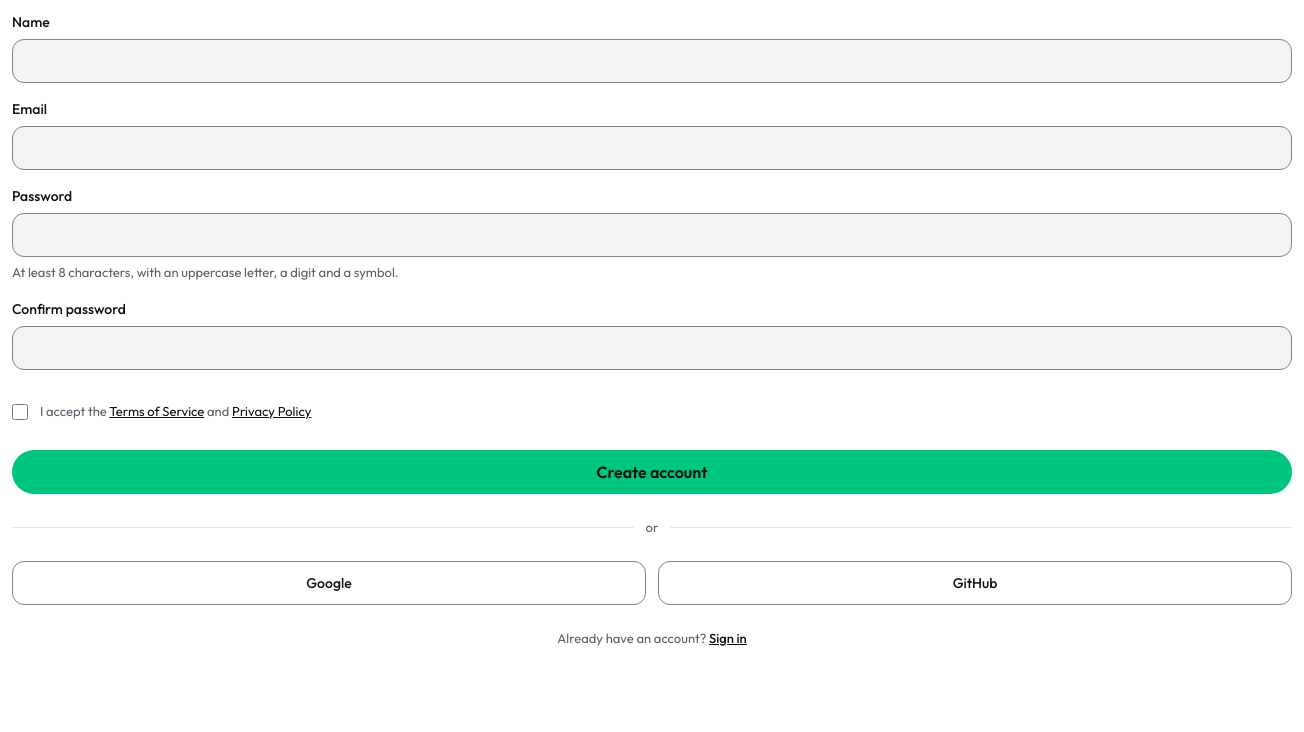
it: RegisterForm › renders success text containing "Check your inbox" after successful registration
Type "Alice Trader" into the field labelled "Name" at x=652, y=61, box [12,39,1292,83]
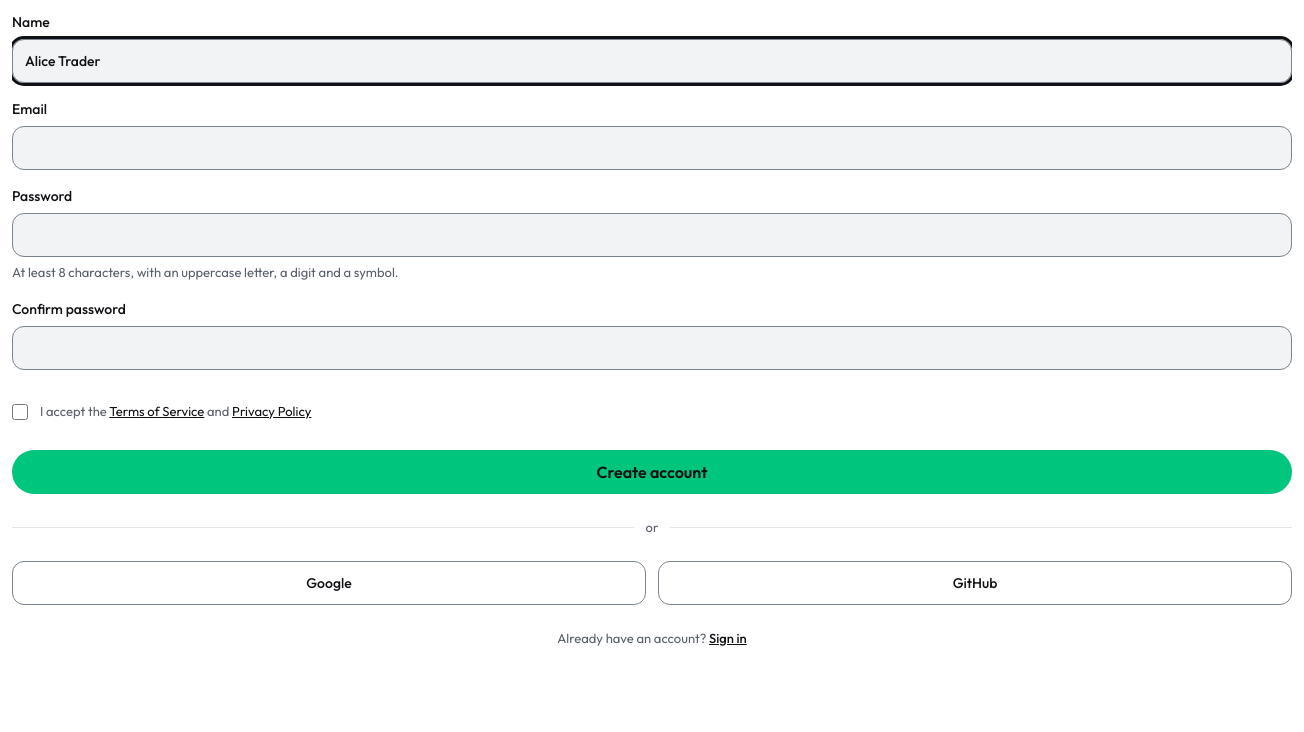
Type "alice@example.com" into the field labelled "Email" at x=652, y=148, box [12,126,1292,170]
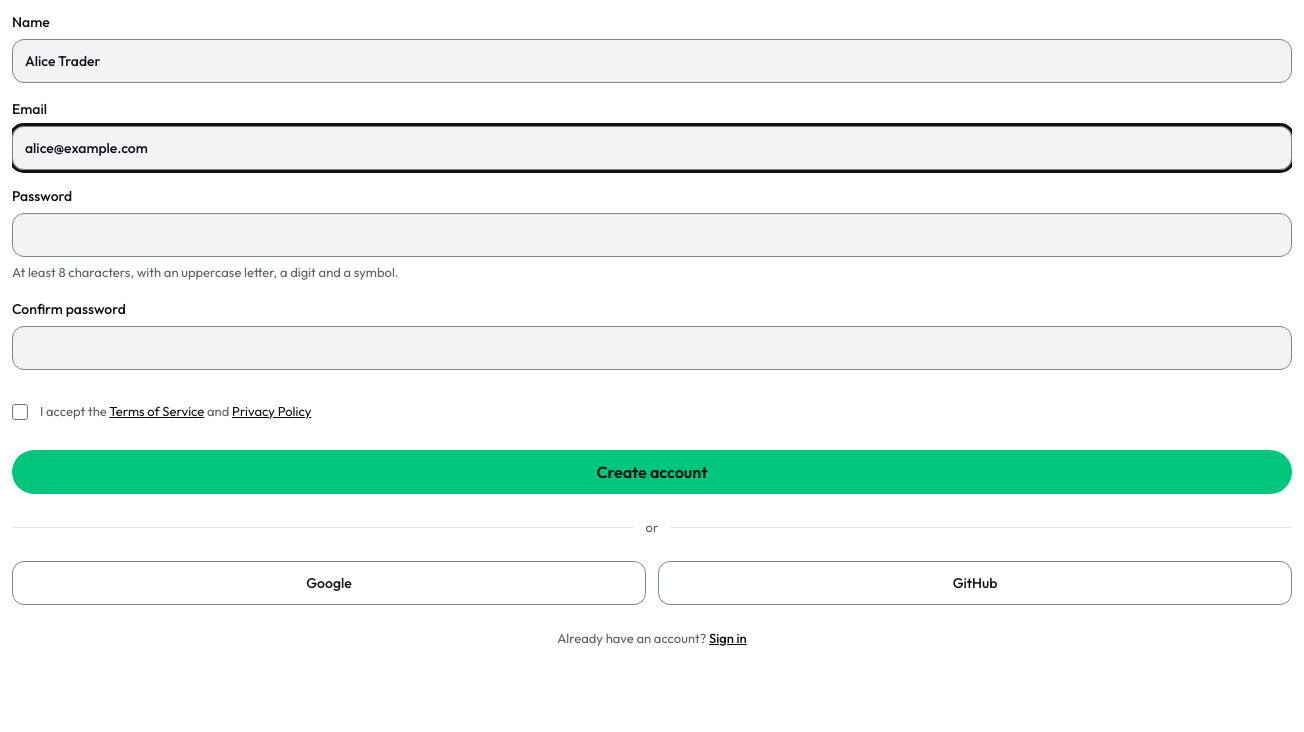
Type "Password123!" into the password field labelled "Password" at x=652, y=235, box [12,213,1292,257]
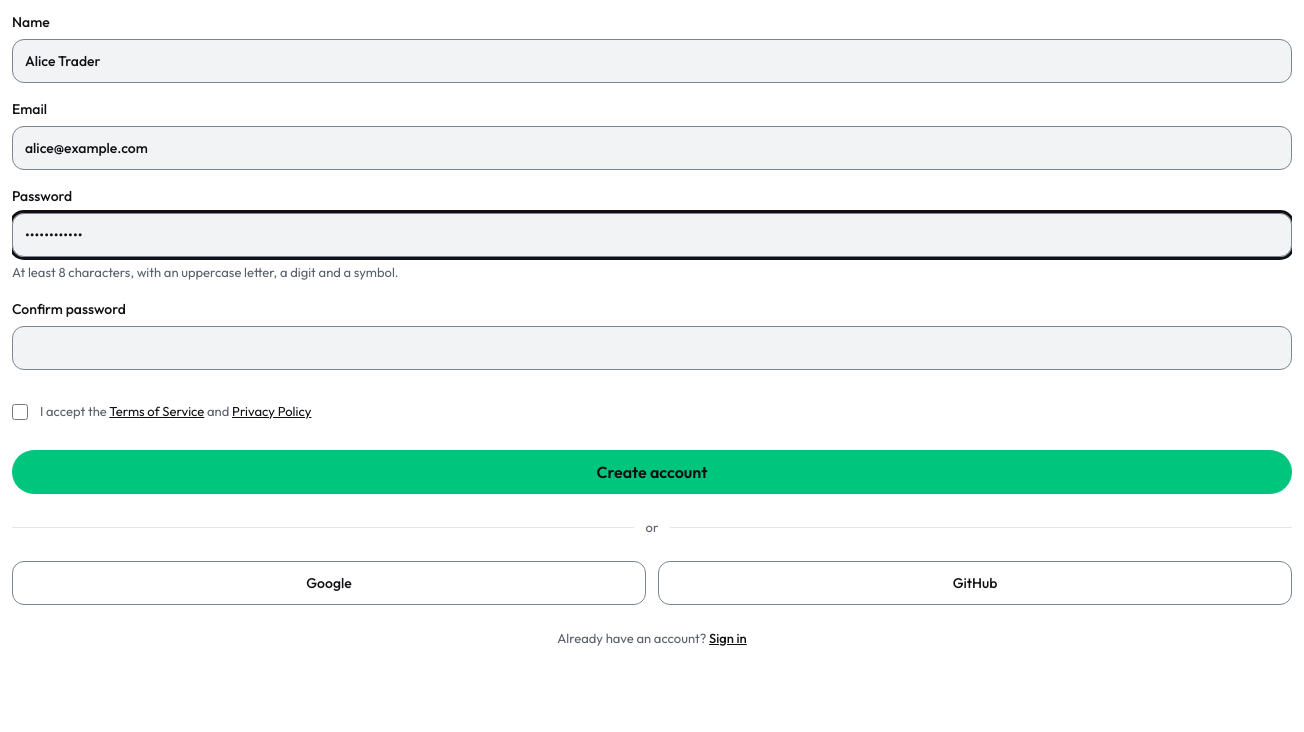
Type "Password123!" into the password field labelled "Confirm password" at x=652, y=348, box [12,326,1292,370]
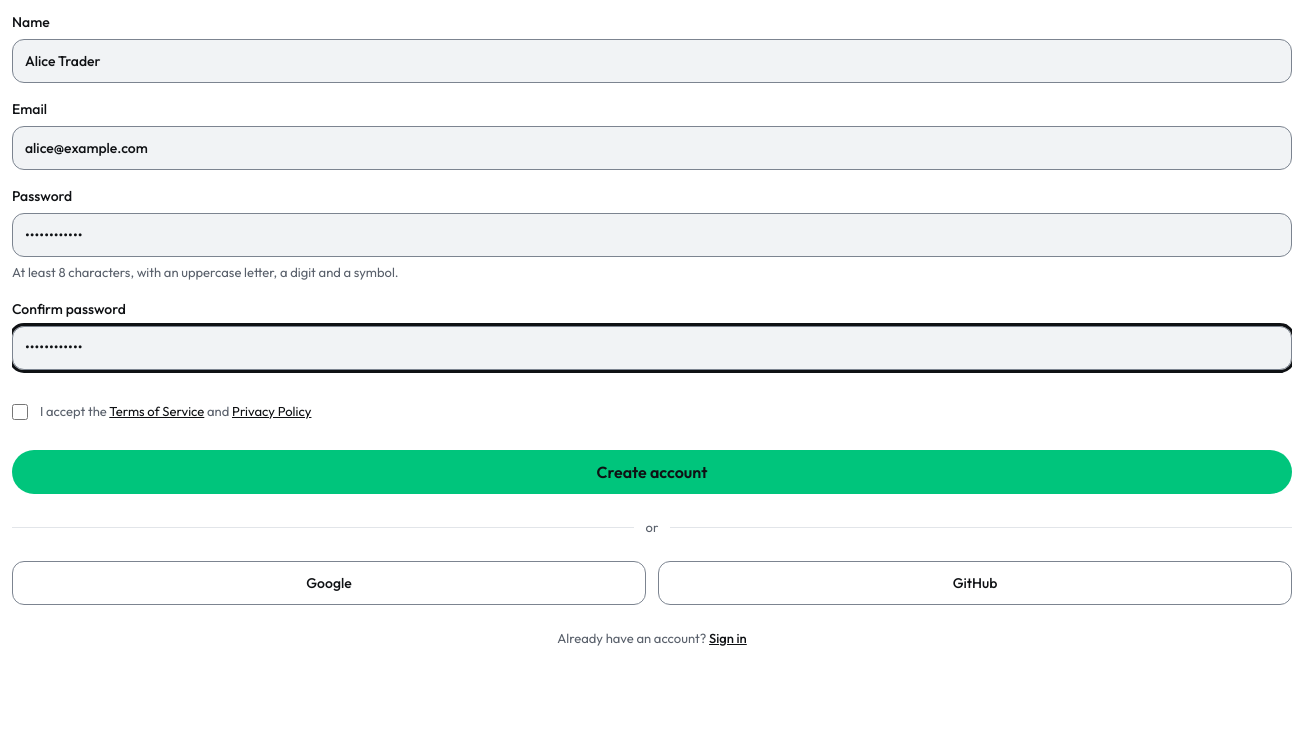
Click the checkbox at x=20, y=412, box [12,404,28,420]
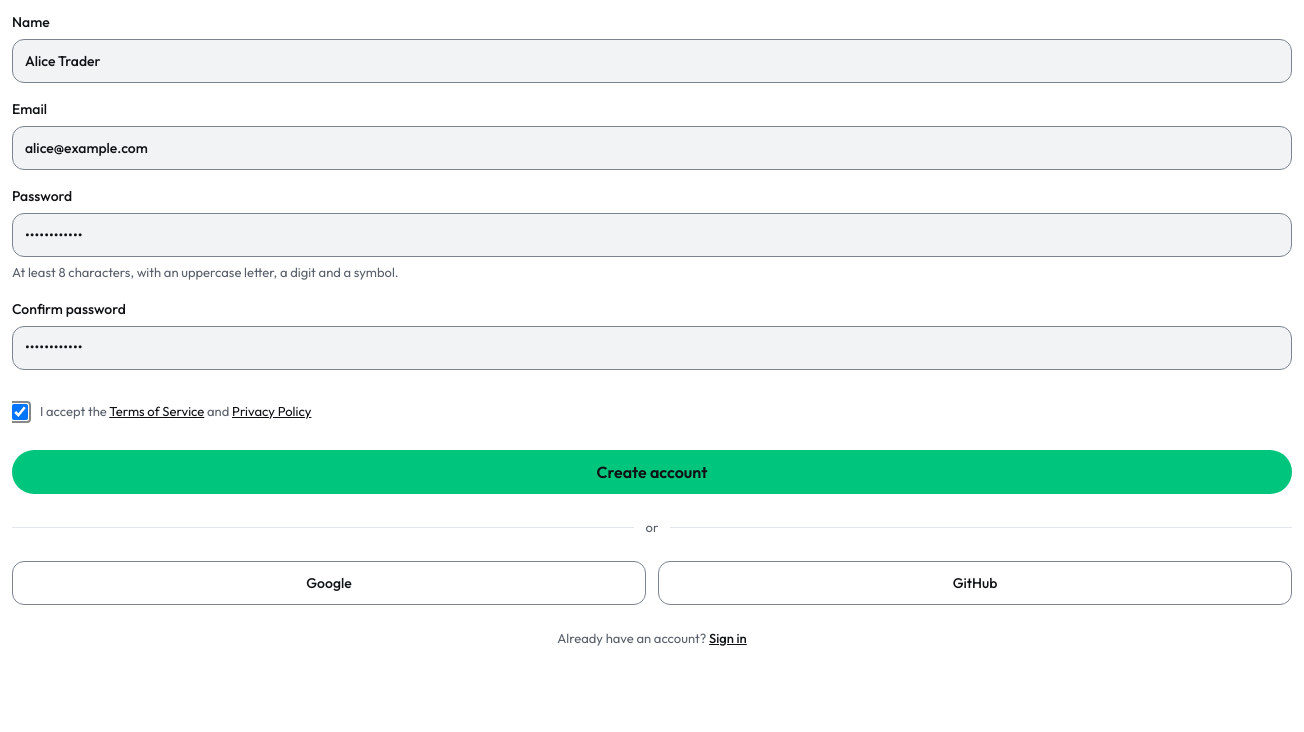
Click the button "Create account" at x=652, y=472, box [12,450,1292,494]
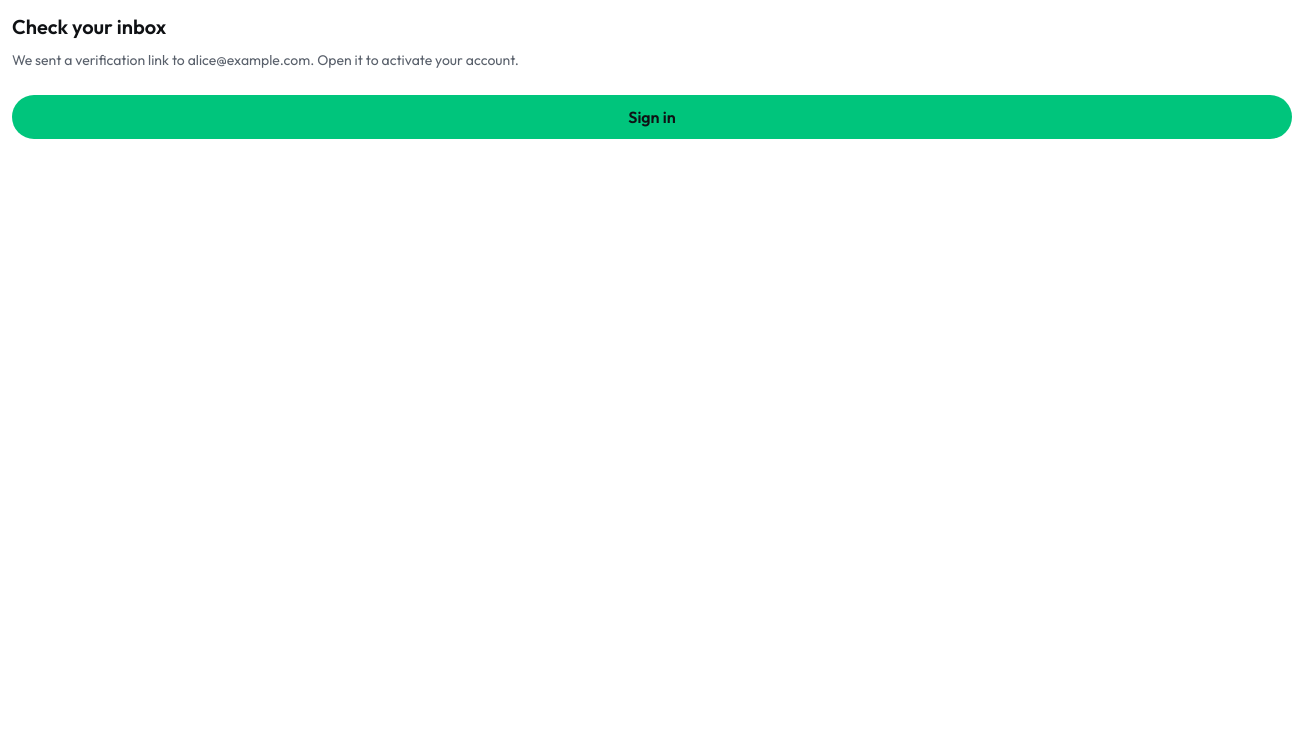
Check: the heading "Check your inbox" is shown, box [12,14,166,39]
Check: the text "we sent a verification link to alice@example.com. open it to activate your account." is shown, box [12,51,519,69]
